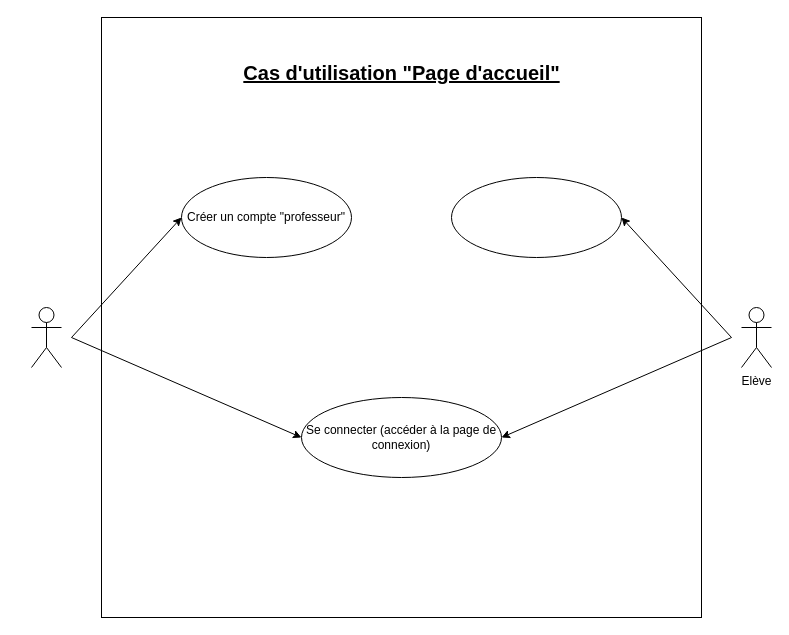
Some shapes in this 789 by 635 pixel diagram are drawn without their labels. Each missing label, with the box of its shape:
Créer un compte "élève": (450, 176, 622, 258)
Professeur: (30, 306, 62, 368)
